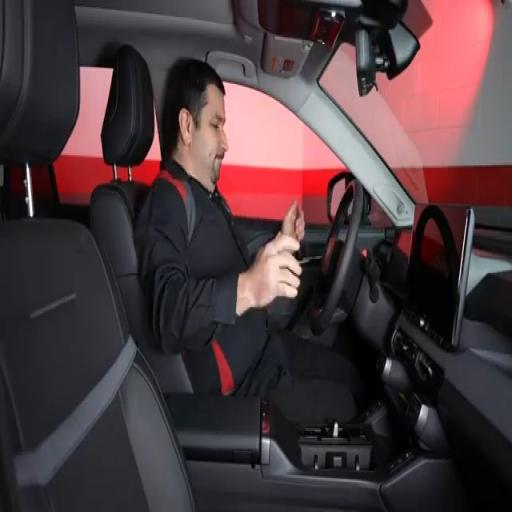side_mirror: (327, 171, 354, 223)
window: (219, 83, 346, 226)
windshield: (320, 0, 511, 206)
